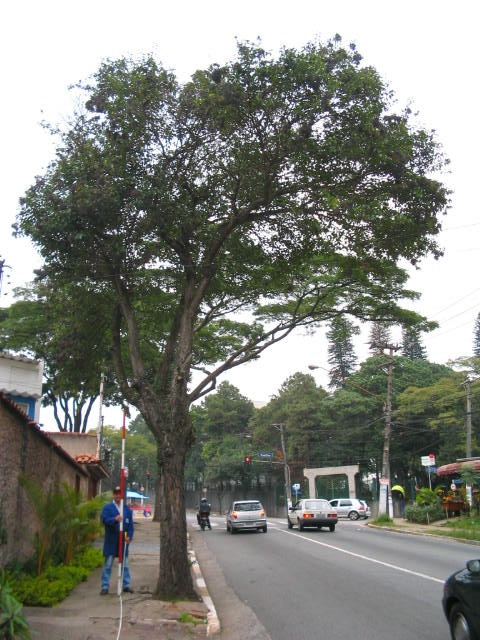crown: (14, 34, 453, 438)
stem: (145, 438, 208, 600)
stick: (108, 409, 135, 593)
tree: (13, 32, 455, 601)
